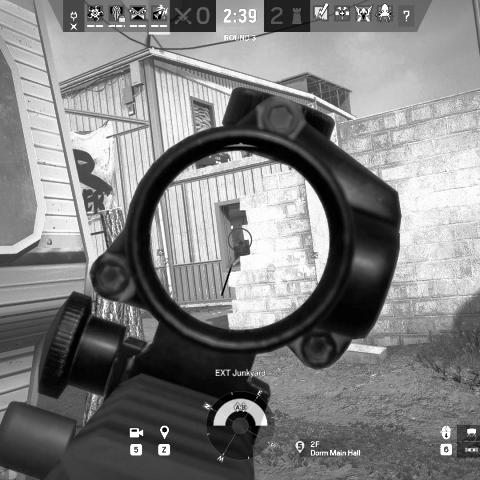Character: (234, 240, 247, 261)
Friend_label: (306, 252, 325, 266), (154, 248, 168, 264)
Head: (238, 241, 244, 246)
